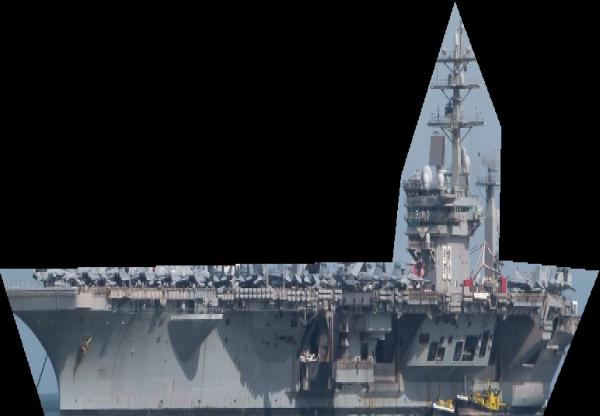Aircraft Carrier: (0, 1, 600, 416)
